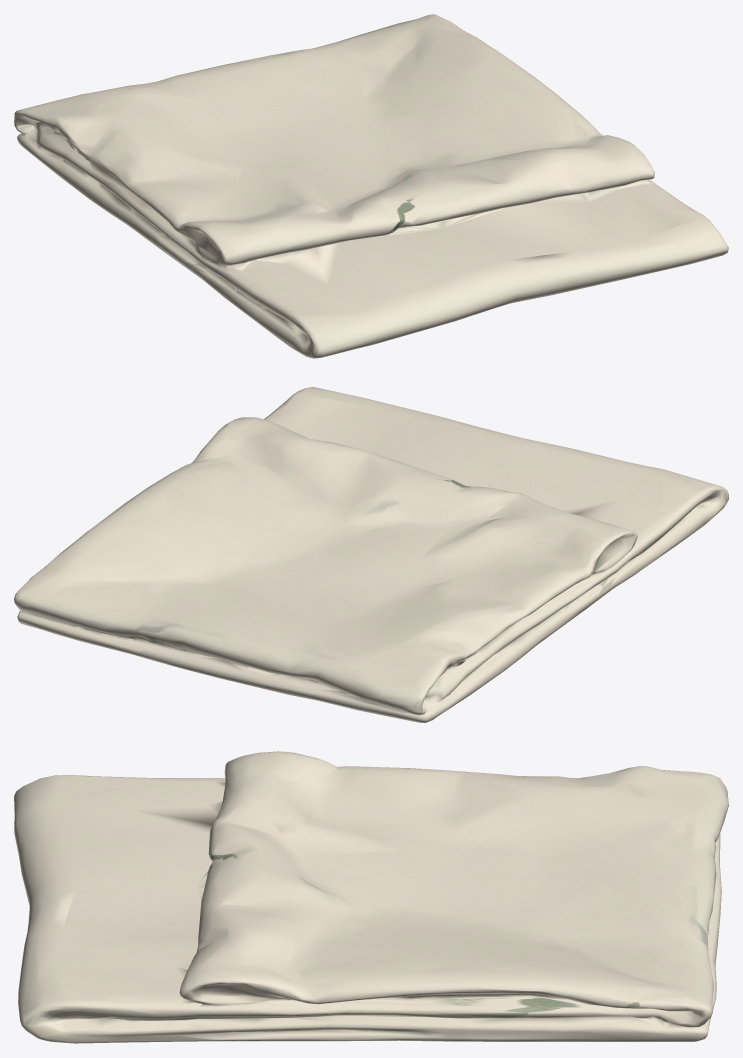
The model's file is towel.glb.
The picture shows the model from 3 angles, top to bottom: view 1: azimuth 30°, elevation 25°; view 2: azimuth 150°, elevation 25°; view 3: azimuth 270°, elevation 25°; orthographic projection. The views are drawn at different scales.
Parts seen in each view (by area): view 1: Mesh_0; view 2: Mesh_0; view 3: Mesh_0.
Boxes of the visible parts, bbox=[...] form: Mesh_0: bbox=[14, 14, 728, 358]; Mesh_0: bbox=[14, 387, 728, 722]; Mesh_0: bbox=[14, 751, 728, 1043].
Size of the model in its own units: 0.18 by 0.0249 by 0.23.
1 material, 1 textured.
